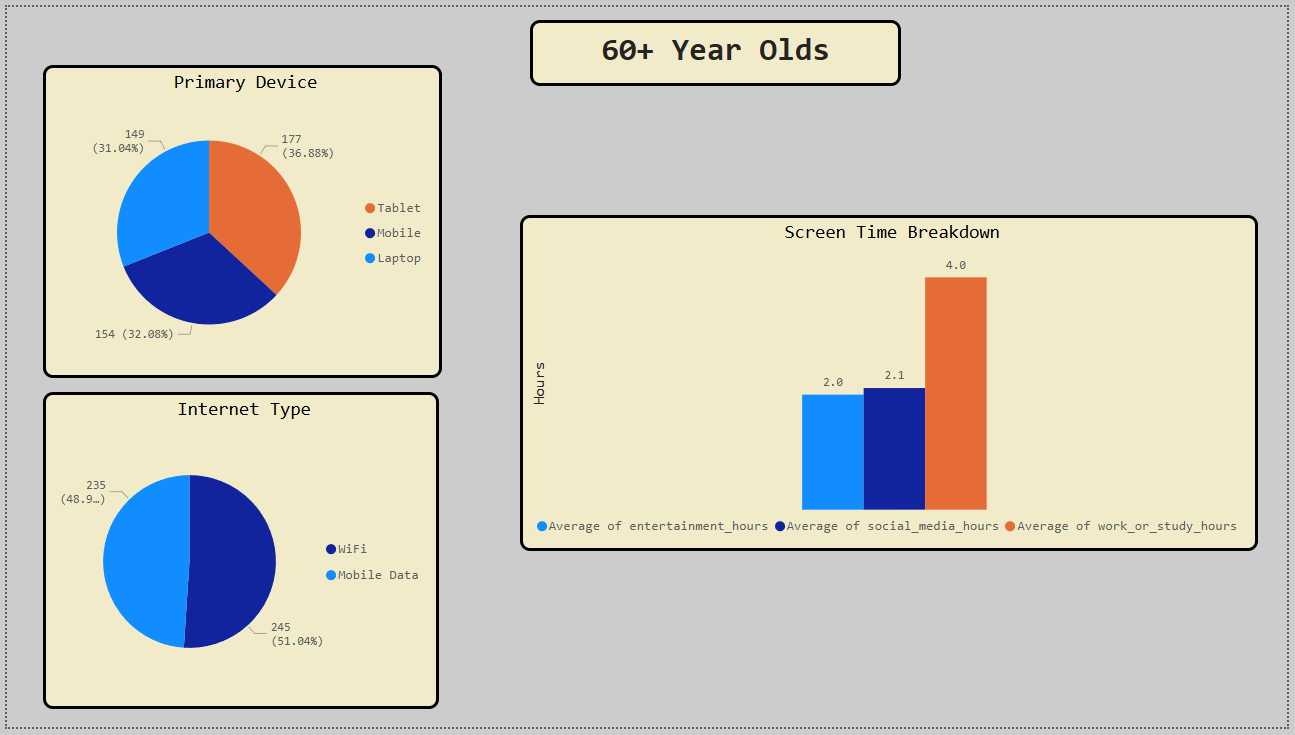

The dashboard page shown, as its layout file describes it:
{"tool":"powerbi","page":{"name":"60+yr olds","canvas":[1280,720],"ordinal":6},"visuals":[{"type":"pieChart","title":"Primary Device","fields":{"Category":["daily_internet_usage_by_age_gro.primary_device"],"Y":["CountNonNull(daily_internet_usage_by_age_gro.primary_device)"]},"box":[36.1,57.7,398.8,313.3],"z":0},{"type":"pieChart","title":"Internet Type","fields":{"Category":["daily_internet_usage_by_age_gro.internet_type"],"Y":["CountNonNull(daily_internet_usage_by_age_gro.internet_type)"]},"box":[36.1,385.4,395.7,316.4],"z":1000},{"type":"clusteredColumnChart","title":"Screen Time Breakdown","fields":{"Y":["Avg(daily_internet_usage_by_age_gro.entertainment_hours)","Avg(daily_internet_usage_by_age_gro.social_media_hours)","Avg(daily_internet_usage_by_age_gro.work_or_study_hours)"]},"box":[513.2,208.2,737.9,336],"z":2000},{"type":"textbox","box":[522.5,13.4,371,66],"z":3000}]}

Visuals, with their boxes in screenshot pixels (x1, y1, x2, y2), scaled from the page's 1280x720 canvas onto the 1295x735 screenshot:
"Primary Device" pieChart: (left=37, top=59, right=440, bottom=379)
"Internet Type" pieChart: (left=37, top=393, right=437, bottom=716)
"Screen Time Breakdown" clusteredColumnChart: (left=519, top=213, right=1266, bottom=556)
textbox: (left=529, top=14, right=904, bottom=81)
